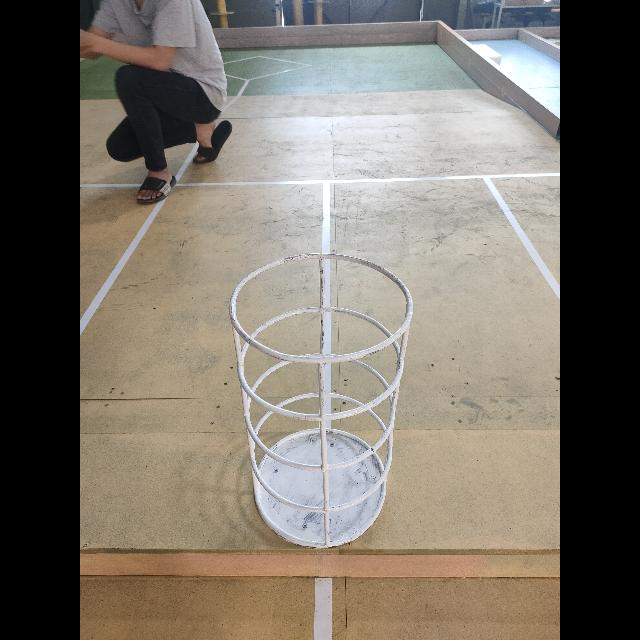S: (229, 255, 414, 551)
